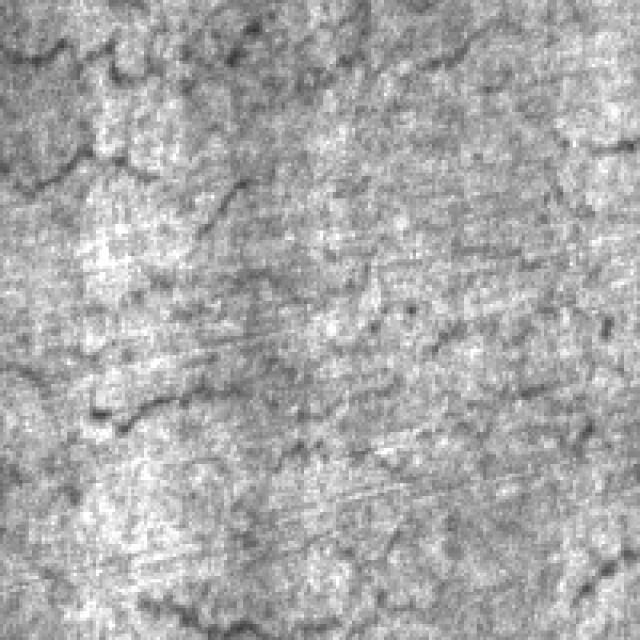crazing: (0, 141, 403, 467), (54, 301, 580, 499), (0, 16, 467, 205), (170, 0, 563, 115)
